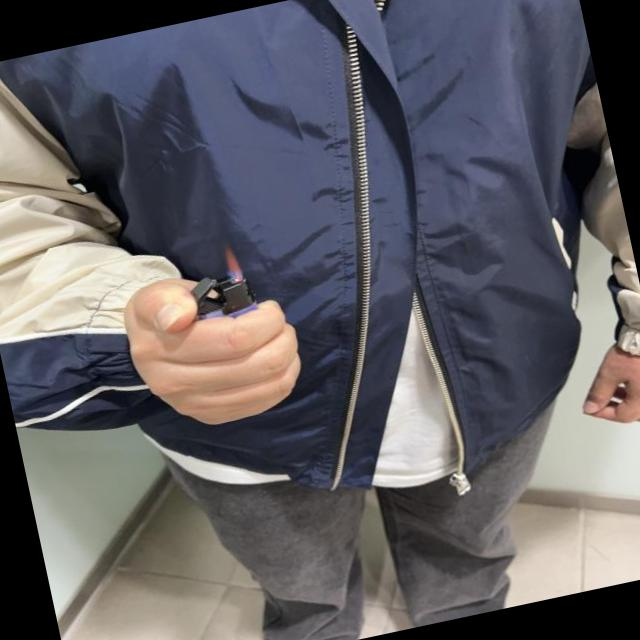Fire: (220, 246, 247, 286)
